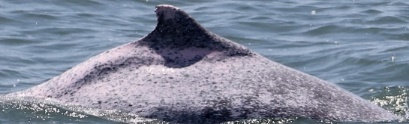fin: (10, 3, 399, 121)
